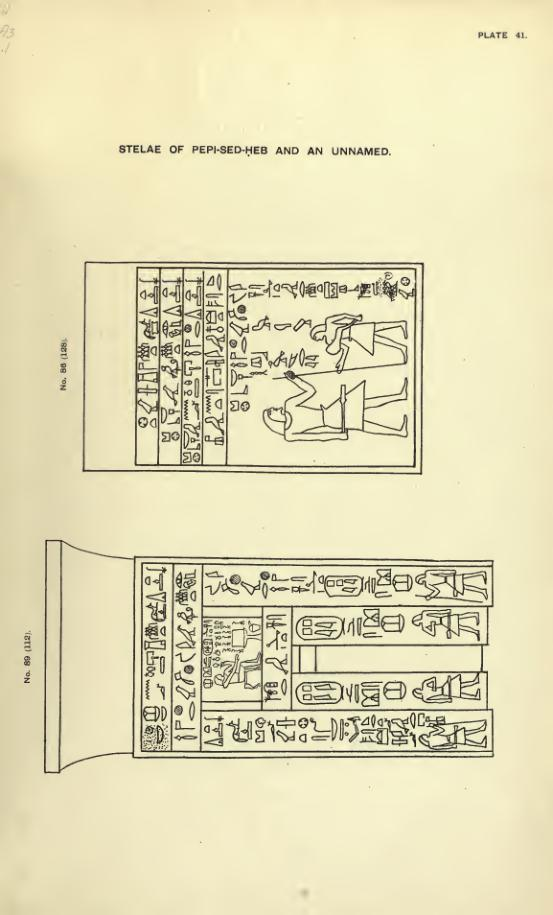circle: (295, 612, 348, 642), (294, 678, 346, 705), (325, 573, 365, 599)
